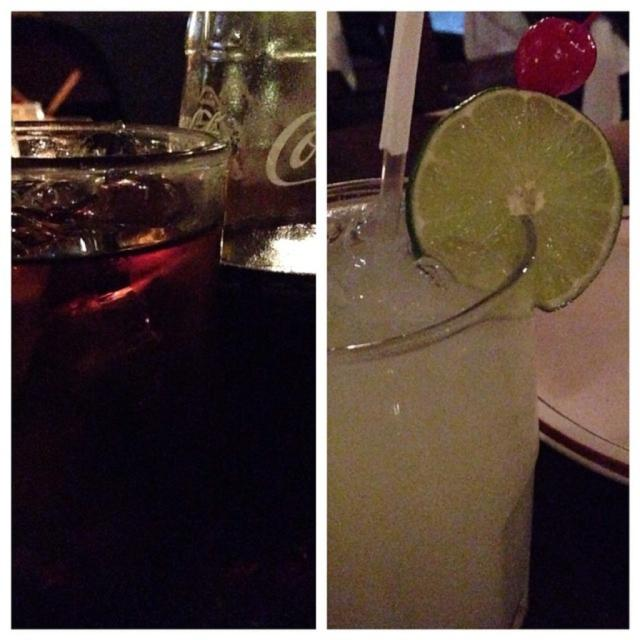Lemon: (406, 85, 622, 312)
